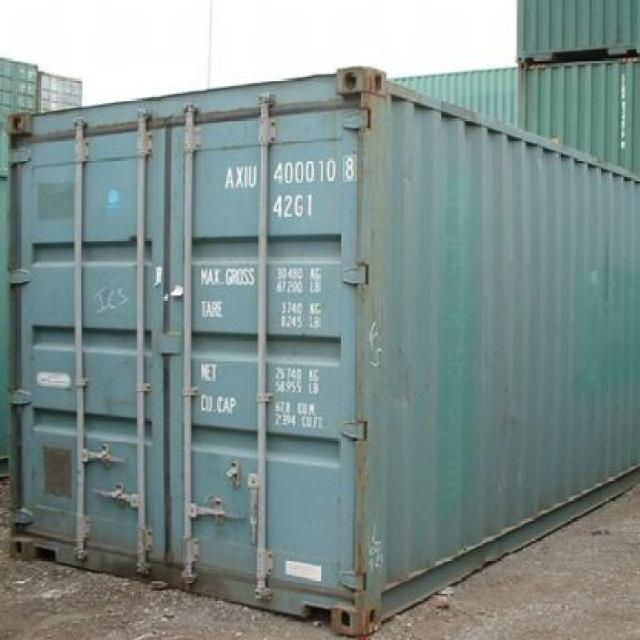ISO: (274, 193, 317, 220)
container_number: (224, 160, 352, 184)
